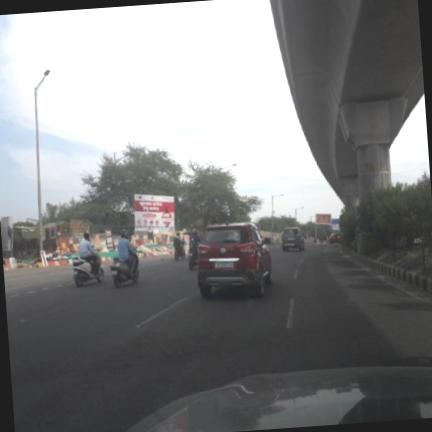Road: (4, 245, 431, 431)
